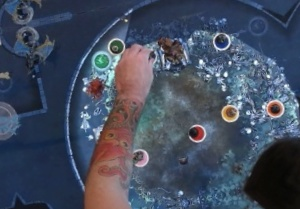blue: (209, 28, 235, 53)
green: (106, 33, 129, 57)
orange: (263, 94, 289, 120)
pink: (129, 144, 153, 168)
red: (184, 118, 210, 146)
violet: (142, 46, 161, 67)
yellow: (217, 100, 244, 125)
